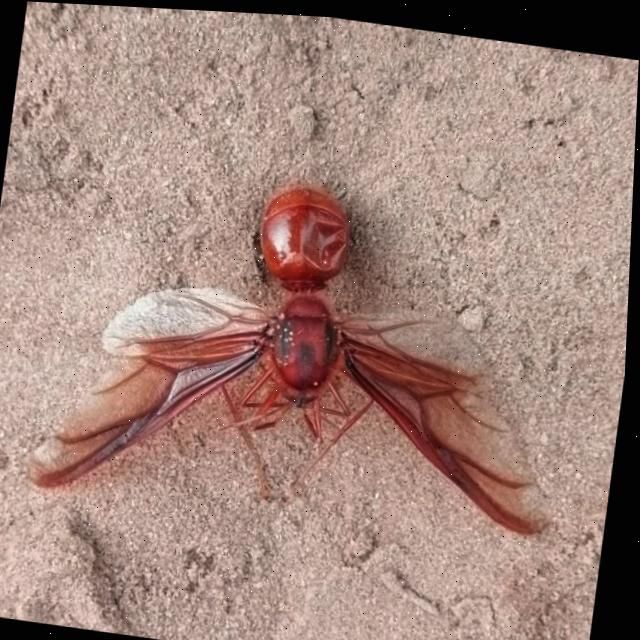Dead-Male-Alate: (22, 146, 597, 556)
